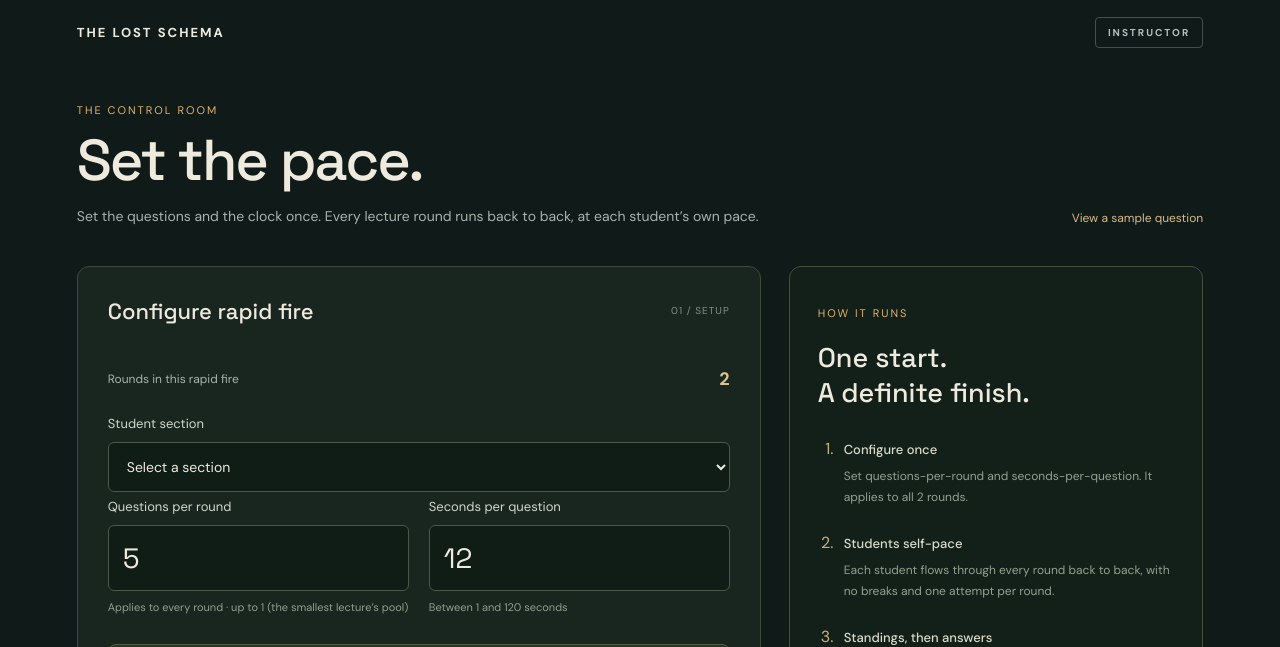
it: Instructor question review › shows every drawn question with its answer before the join link exists
This screenshot has width=1280, height=647.
Select "A" in the dropdown labelled "Student section" at {"x": 419, "y": 467}, box [108,442,730,492]
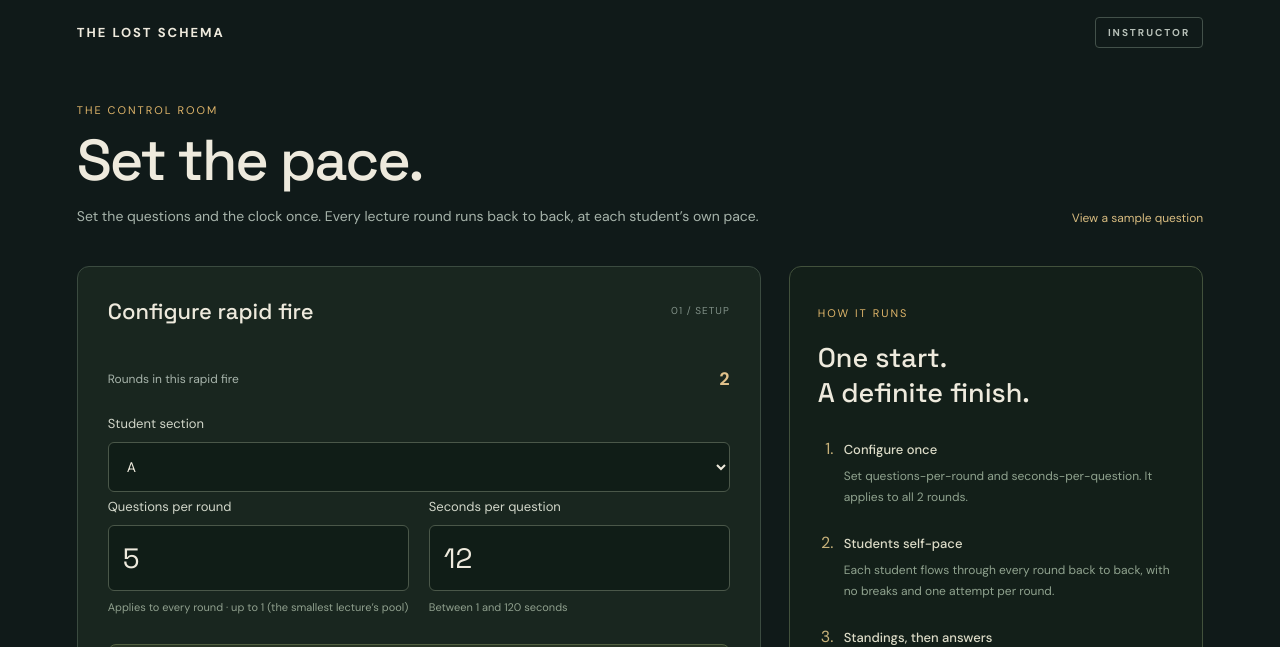
Replace the text in the number field labelled "Questions per round" with "1" at {"x": 258, "y": 558}, box [108,525,409,591]
(page scrolled)
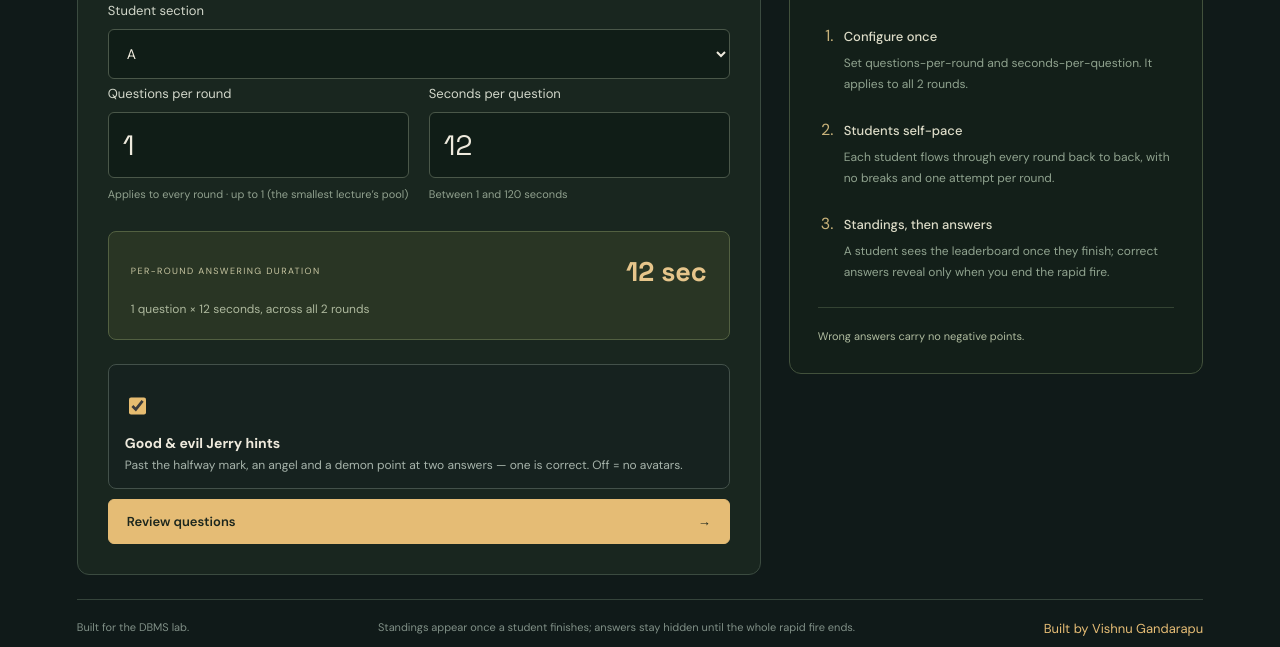
Click the button "Review questions →" at {"x": 181, "y": 521}, box [108,499,730,544]
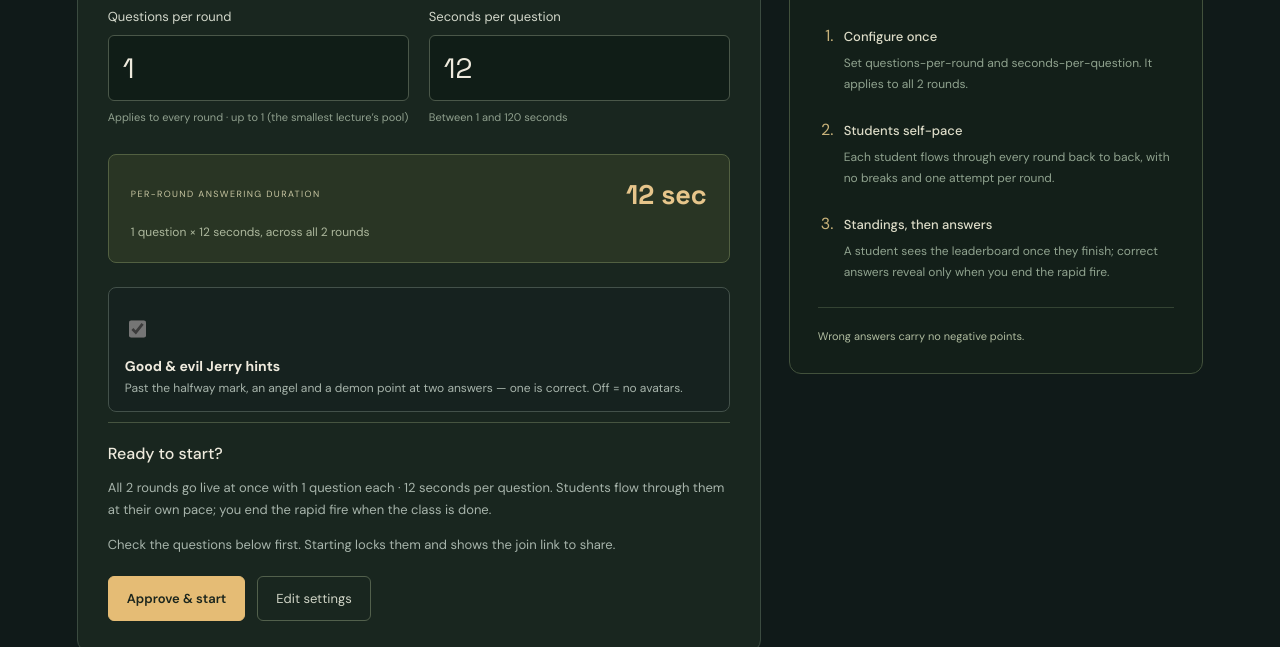
Expected: the text "share this link" is not shown
Click the button "Approve & start" at {"x": 177, "y": 598}, box [108,576,245,621]
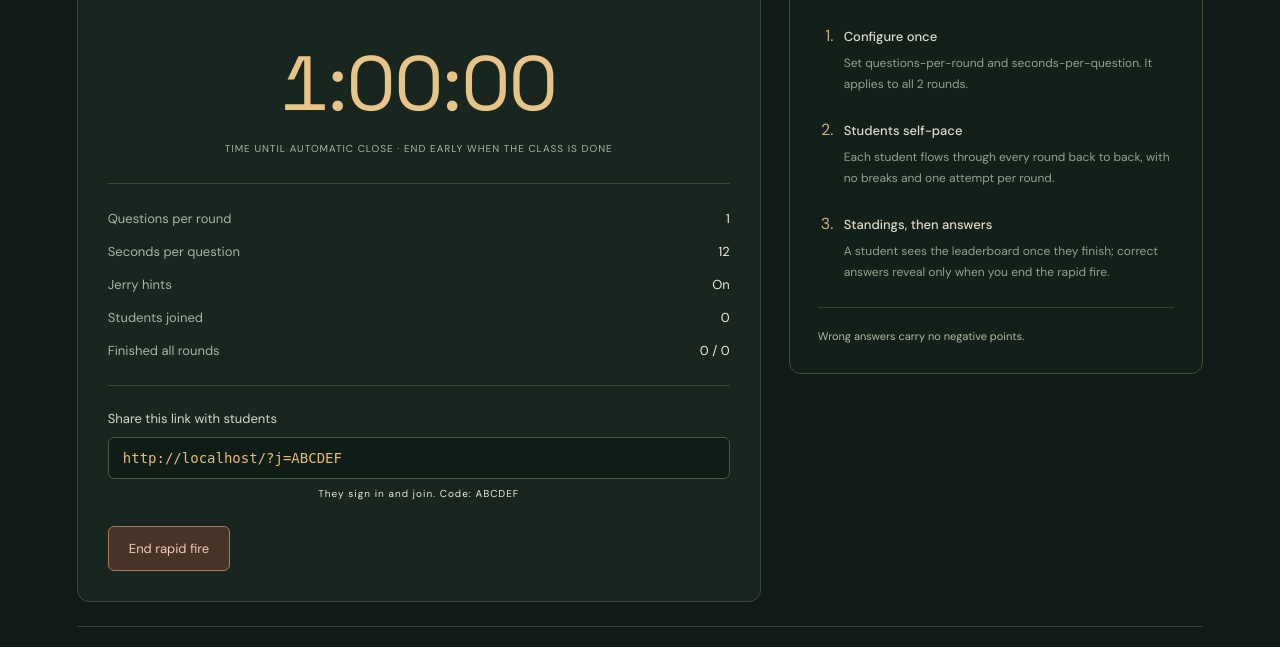
Now the text "Share this link with students" is shown, box [108,410,277,427]
Now the text "http://localhost/?j=ABCDEF" is shown, box [108,437,730,479]
